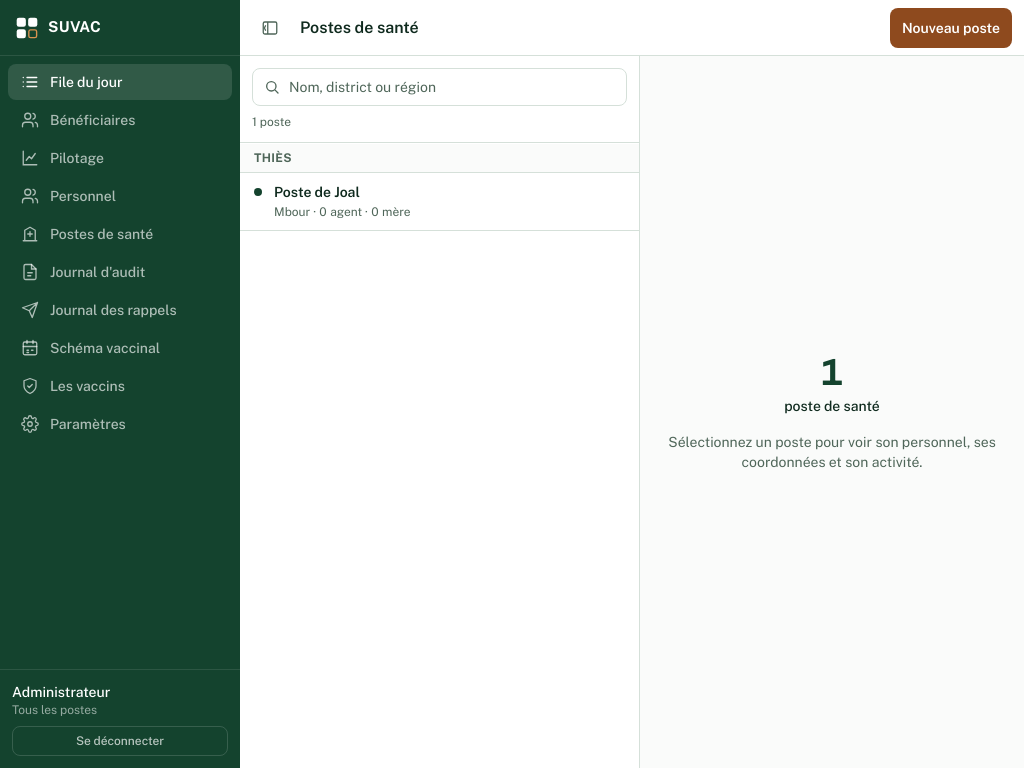
Postes › signale une coordonnée manquante
What coordinates should you click on to do the following:
click the text "Poste de Joal"
I would click on:
 (317, 192)
Its box is [274,182,360,202].
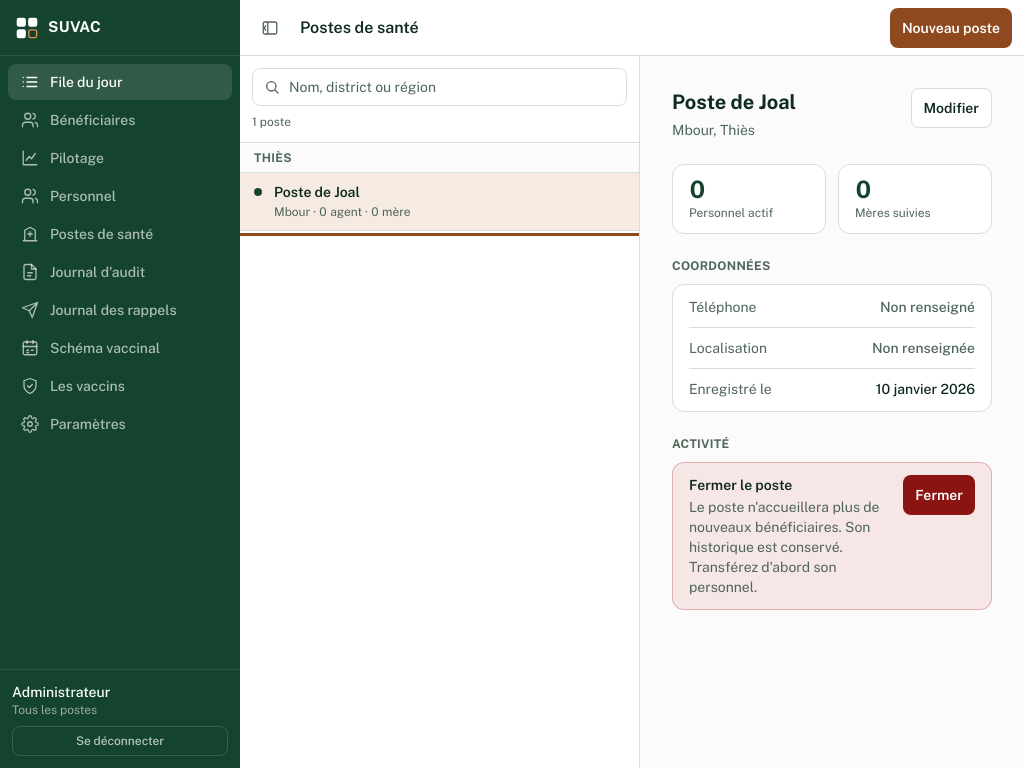
Expected: the text "Non renseignée" is shown, [872,340,975,356]
